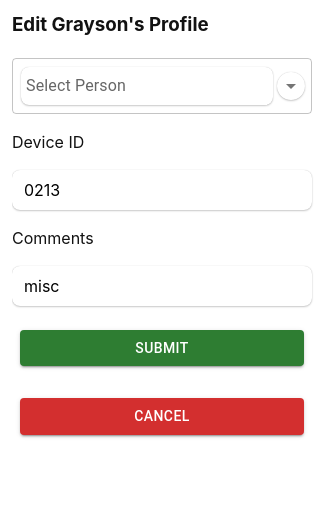
it: Edit Component › should return validation error when device id is above character limit
Type "12345" into the field labelled "Device ID" at (162, 190), box [12,170,312,210]
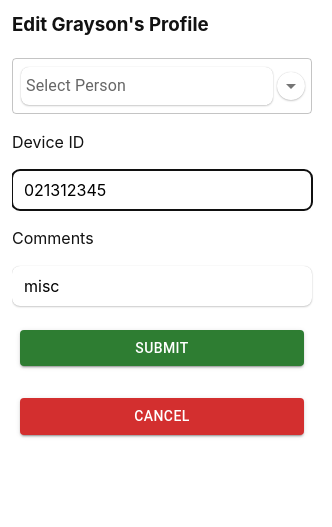
Click the button labelled "Submit" at (162, 348), box [20,330,304,366]
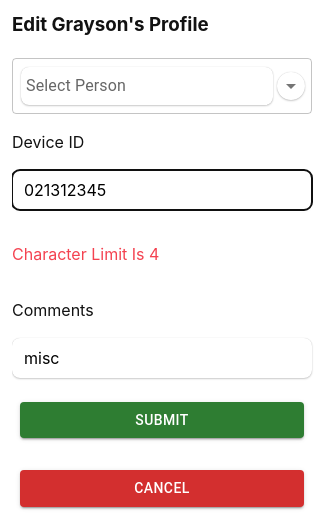
Now the text "Character Limit Is 4" is shown, box [12,244,159,264]
